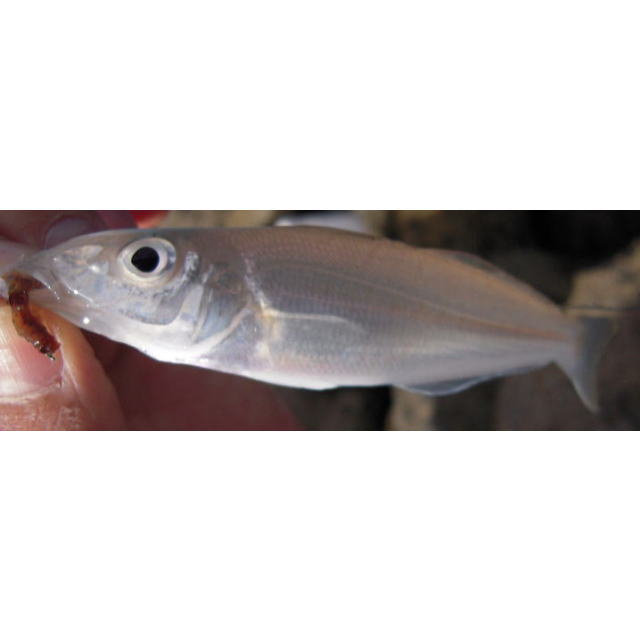kiss: (20, 223, 624, 413)
